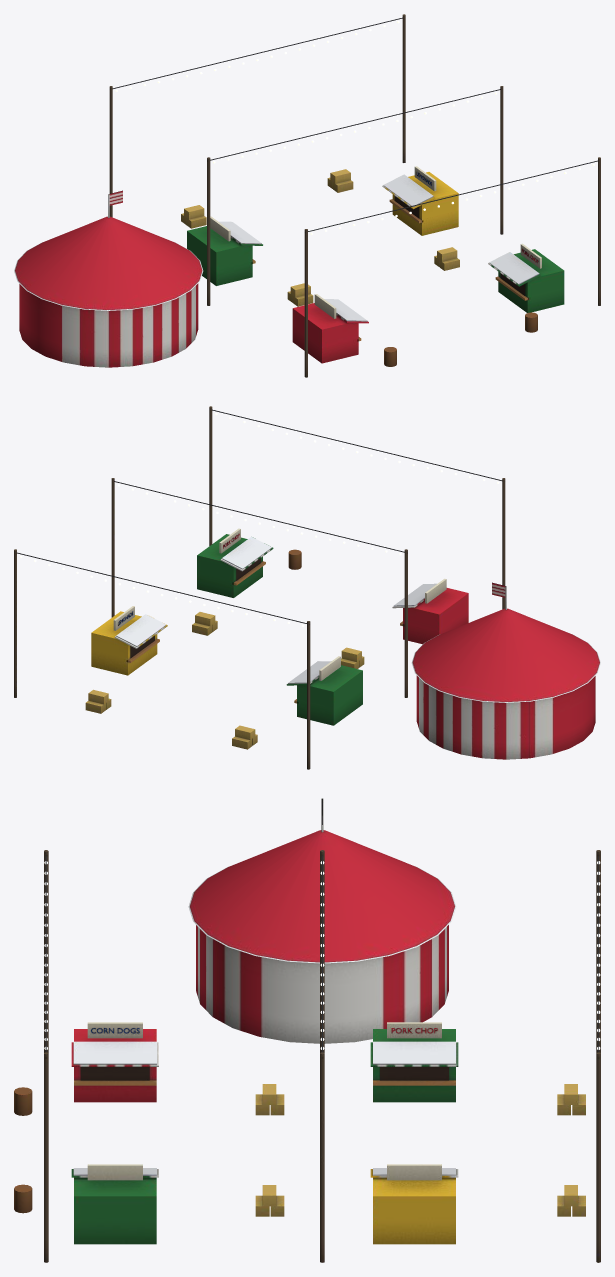
The model's file is feria_puestos.glb.
3 renders of one model, top to bottom at view 1: azimuth 30°, elevation 25°; view 2: azimuth 150°, elevation 25°; view 3: azimuth 270°, elevation 25°, orthographic. The views are drawn at different scales.
Visible parts, largest first — view 1: feria_puestos; view 2: feria_puestos; view 3: feria_puestos.
Part boxes in pixels (x1,y1,x2,y2): feria_puestos: (14,14,600,377); feria_puestos: (14,406,600,769); feria_puestos: (14,798,600,1262).
Size of the model in its own units: 33.82 by 10 by 25.5.
Materials: 1 (1 with a texture image).
